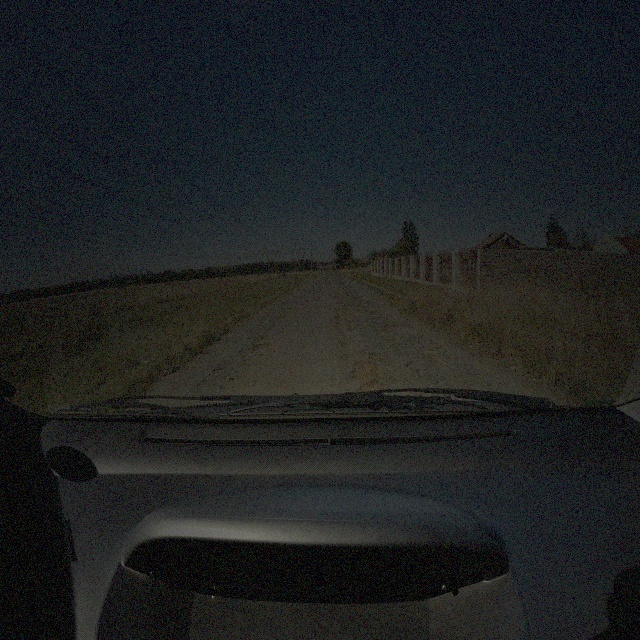pothole: (351, 357, 390, 384), (362, 381, 391, 398), (249, 341, 274, 352), (212, 360, 230, 375), (430, 354, 446, 367), (372, 324, 396, 332), (371, 352, 388, 363), (332, 312, 355, 320), (336, 324, 358, 332), (417, 367, 432, 378), (270, 314, 286, 323), (282, 306, 290, 312), (229, 374, 234, 383)
